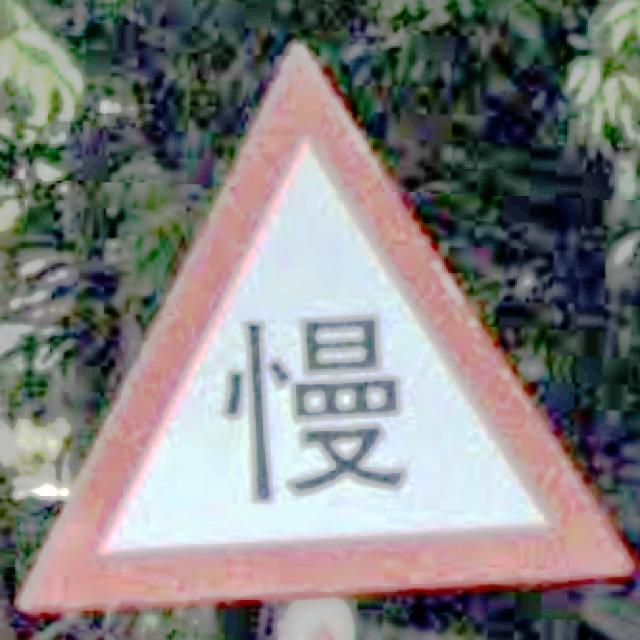slow: (21, 46, 630, 609)
